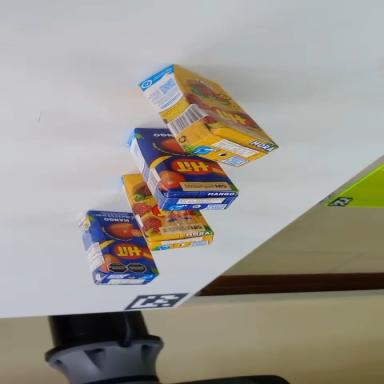HIT-MANGO: (106, 114, 247, 240), (75, 197, 160, 297)
HIT-MORA: (129, 45, 279, 195), (119, 152, 217, 266)
cara_F: (117, 113, 245, 224), (169, 51, 278, 164), (103, 166, 217, 264), (84, 195, 160, 292)
